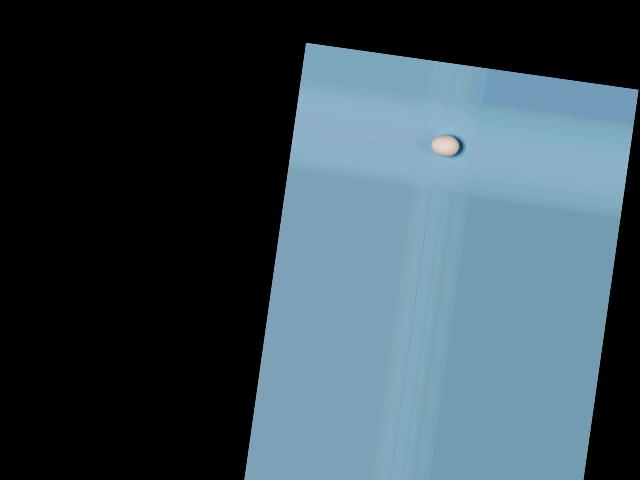egg: (429, 133, 461, 158)
